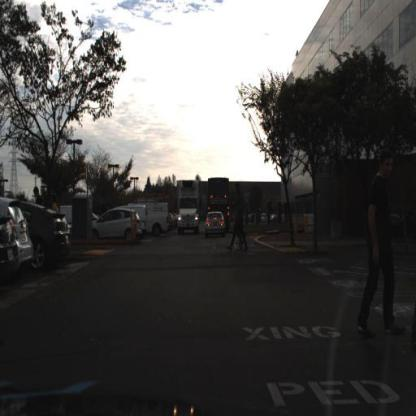car: (21, 202, 70, 266), (1, 197, 35, 285), (86, 209, 135, 240), (131, 203, 173, 236), (122, 205, 152, 235), (206, 213, 224, 237)
pedestrian: (358, 145, 409, 340), (232, 178, 247, 255), (240, 186, 245, 251)
truck: (174, 177, 198, 234), (209, 179, 231, 232)
